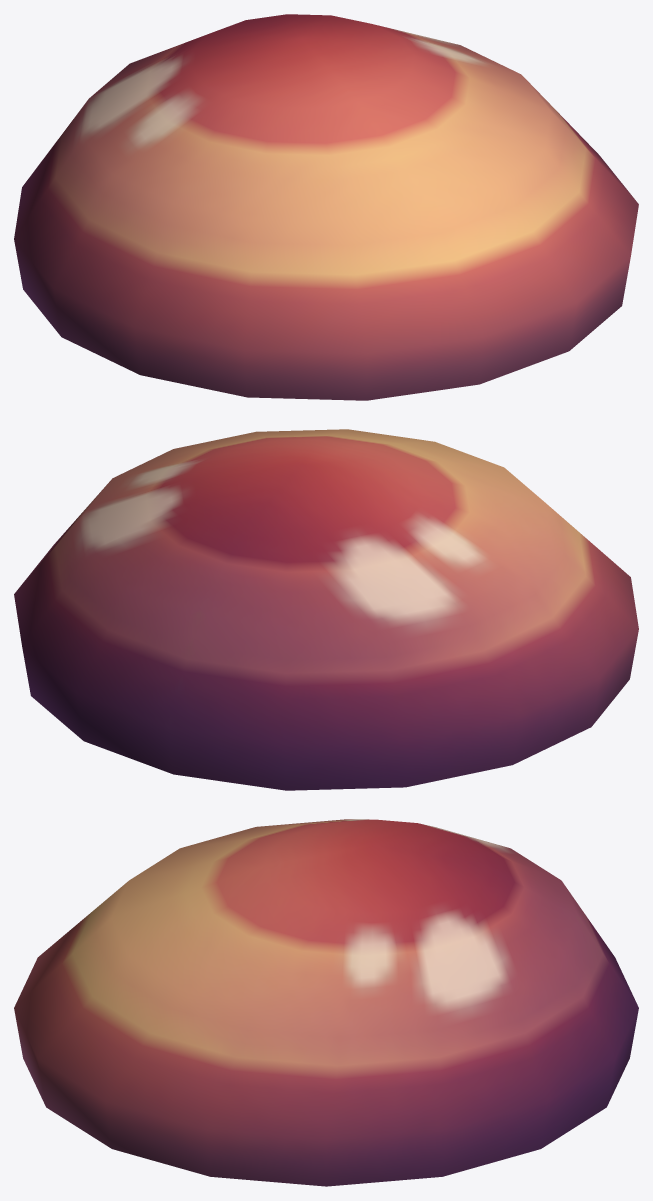
File: scenes_around_candy02a.FBX
3 renders of one model, top to bottom at view 1: azimuth 30°, elevation 25°; view 2: azimuth 150°, elevation 25°; view 3: azimuth 270°, elevation 25°, orthographic.
Visible parts, largest first — view 1: scenes_around_candy02a; view 2: scenes_around_candy02a; view 3: scenes_around_candy02a.
Boxes of the visible parts, x1,y1,x2,y2 form: scenes_around_candy02a: (14, 14, 638, 400); scenes_around_candy02a: (14, 429, 638, 790); scenes_around_candy02a: (14, 819, 638, 1186).
Bounding box in the file's own units: 2181 × 823 × 2181.
